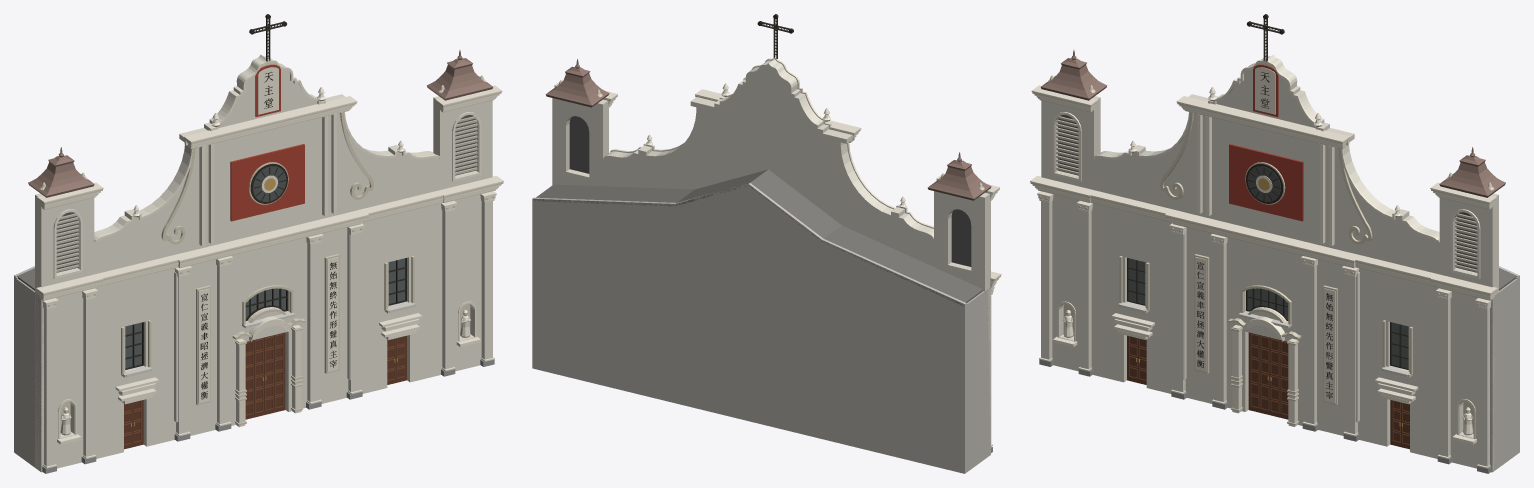
File: huangpu-dongjiadu-cathedral-lod.glb
3 renders of one model, left to right at view 1: azimuth 30°, elevation 25°; view 2: azimuth 150°, elevation 25°; view 3: azimuth 330°, elevation 25°, orthographic. The views are drawn at different scales.
Visible parts, largest first — view 1: 董家渡天主堂南入口立面; view 2: 董家渡天主堂南入口立面; view 3: 董家渡天主堂南入口立面.
Part boxes in pixels (<box>): 董家渡天主堂南入口立面: <box>14,14,503,473</box>; 董家渡天主堂南入口立面: <box>532,14,1001,473</box>; 董家渡天主堂南入口立面: <box>1030,14,1519,473</box>.
Size of the model in its own units: 31.23 by 26.17 by 4.07.
